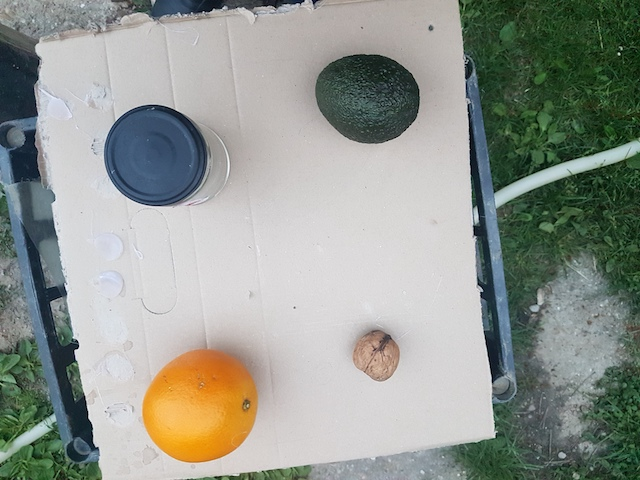avocado: (314, 55, 423, 148)
nut: (353, 328, 404, 385)
orange: (142, 349, 260, 464)
recipient: (97, 102, 206, 212)
